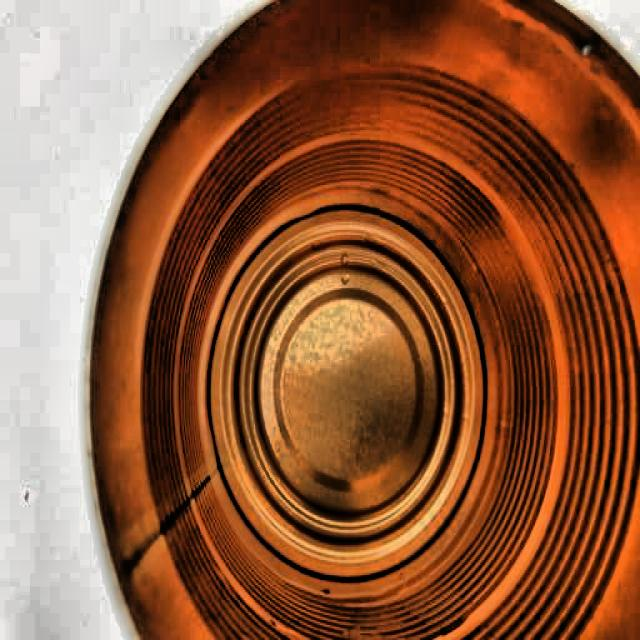metal: (86, 1, 640, 640)
